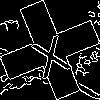X: (25, 25, 73, 80)
